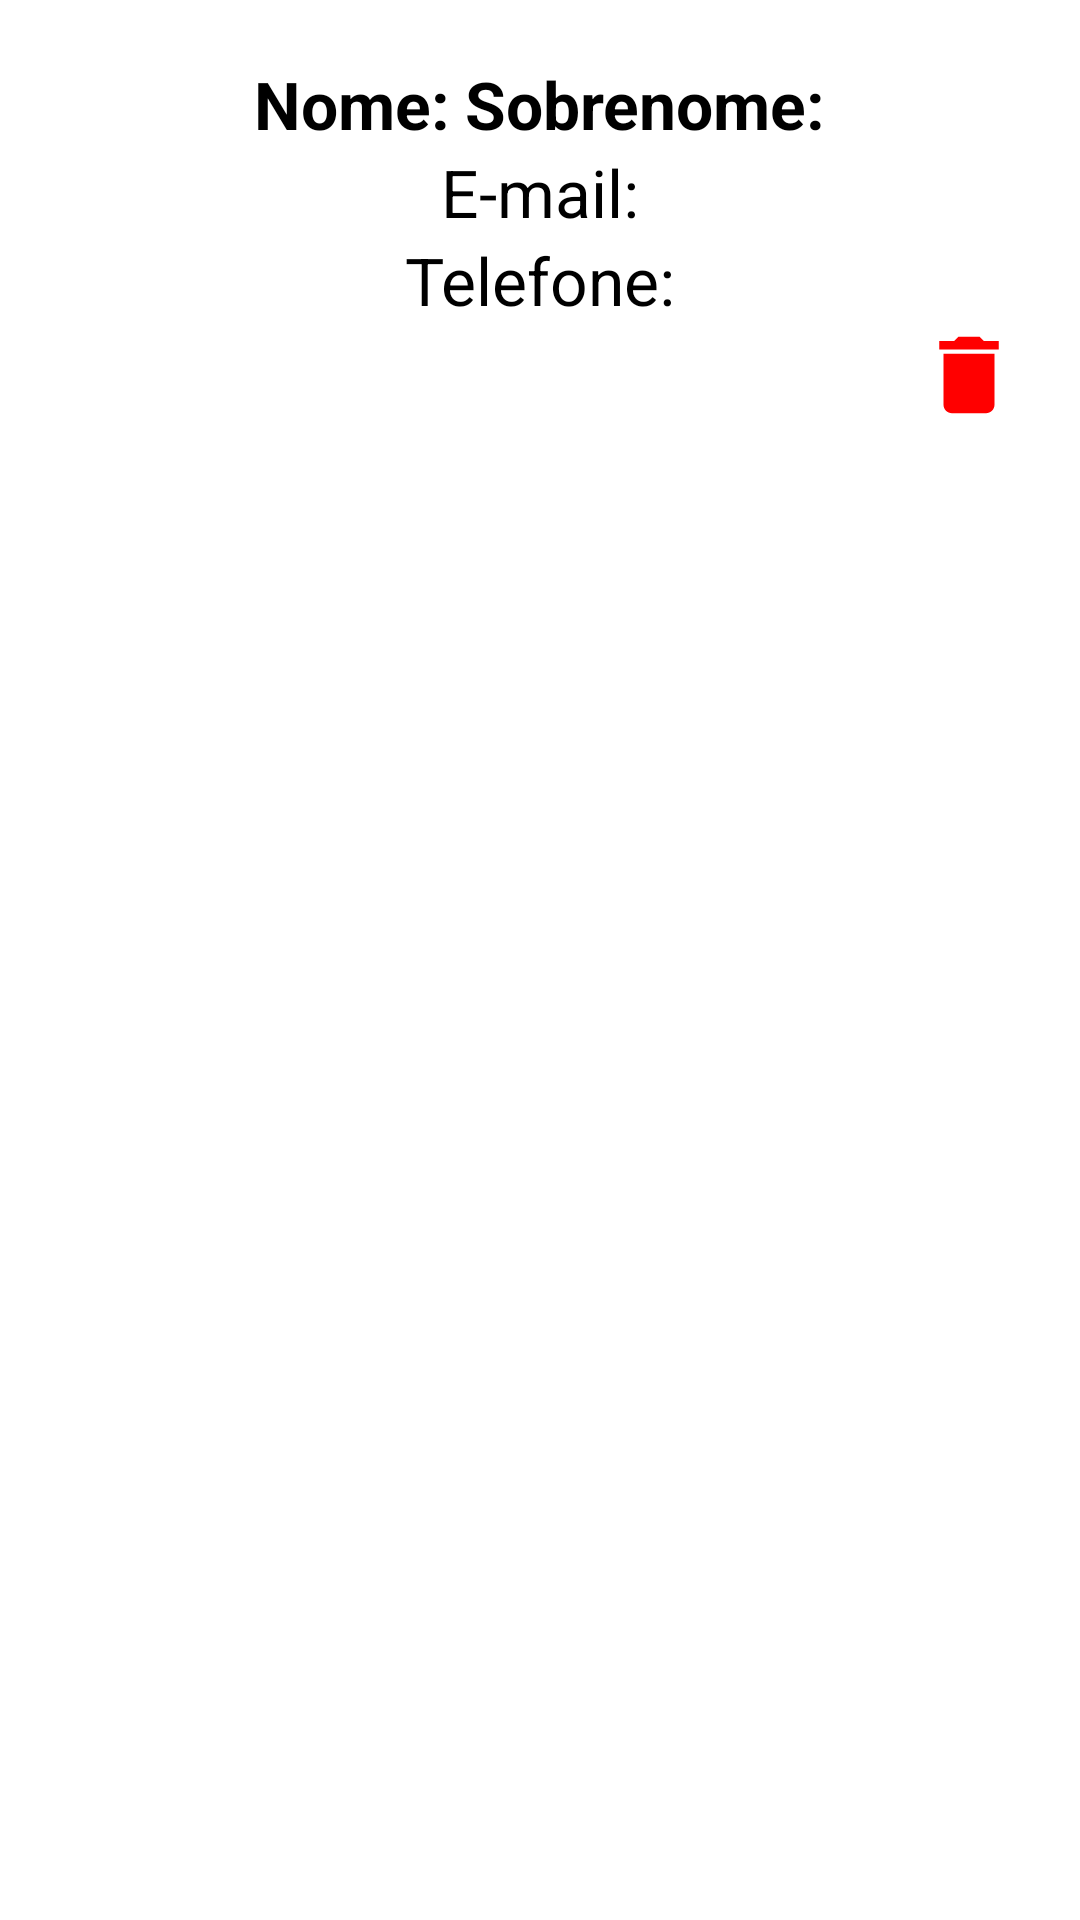

Icons on this 1080px x 1920px Android screen, each with the point to tap as [x,y]:
delete: [969,375]
